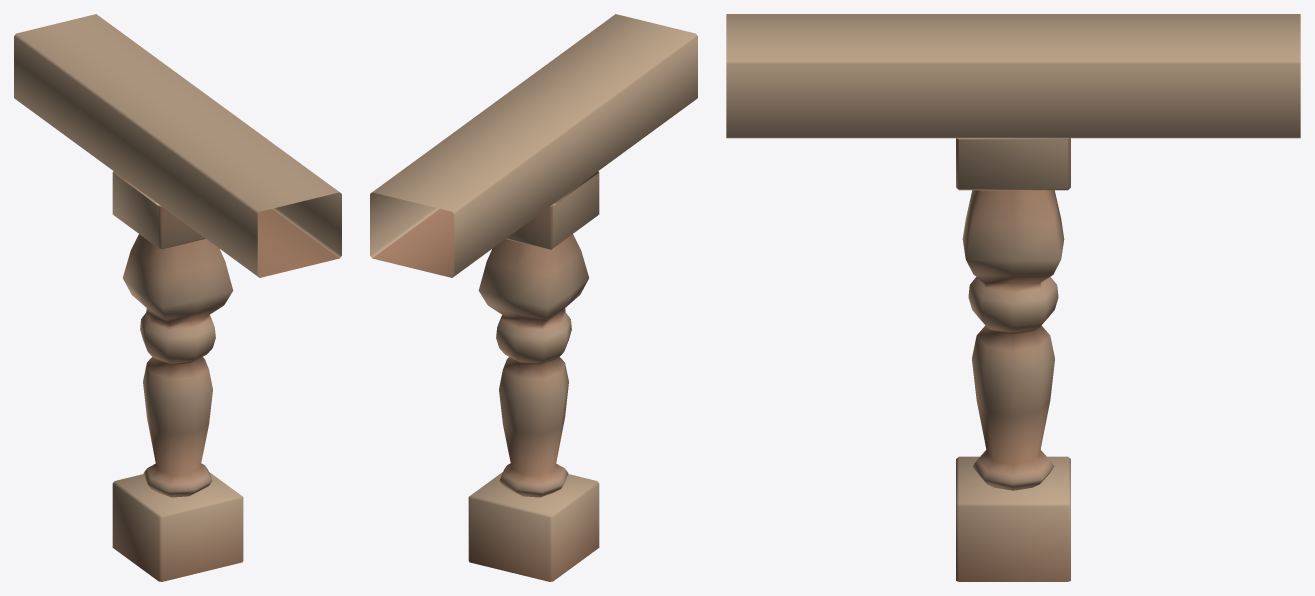
File: Fence_rail.fbx
3 renders of one model, left to right at view 1: azimuth 30°, elevation 25°; view 2: azimuth 150°, elevation 25°; view 3: azimuth 270°, elevation 25°, orthographic. The views are drawn at different scales.
Parts seen in each view (by area): view 1: Fence_straight; view 2: Fence_straight; view 3: Fence_straight.
Part boxes in pixels (bbox=[...]): Fence_straight: bbox=[14, 14, 341, 581]; Fence_straight: bbox=[370, 14, 697, 581]; Fence_straight: bbox=[726, 14, 1300, 581].
Size of the model in its own units: 40 by 200 by 200.
